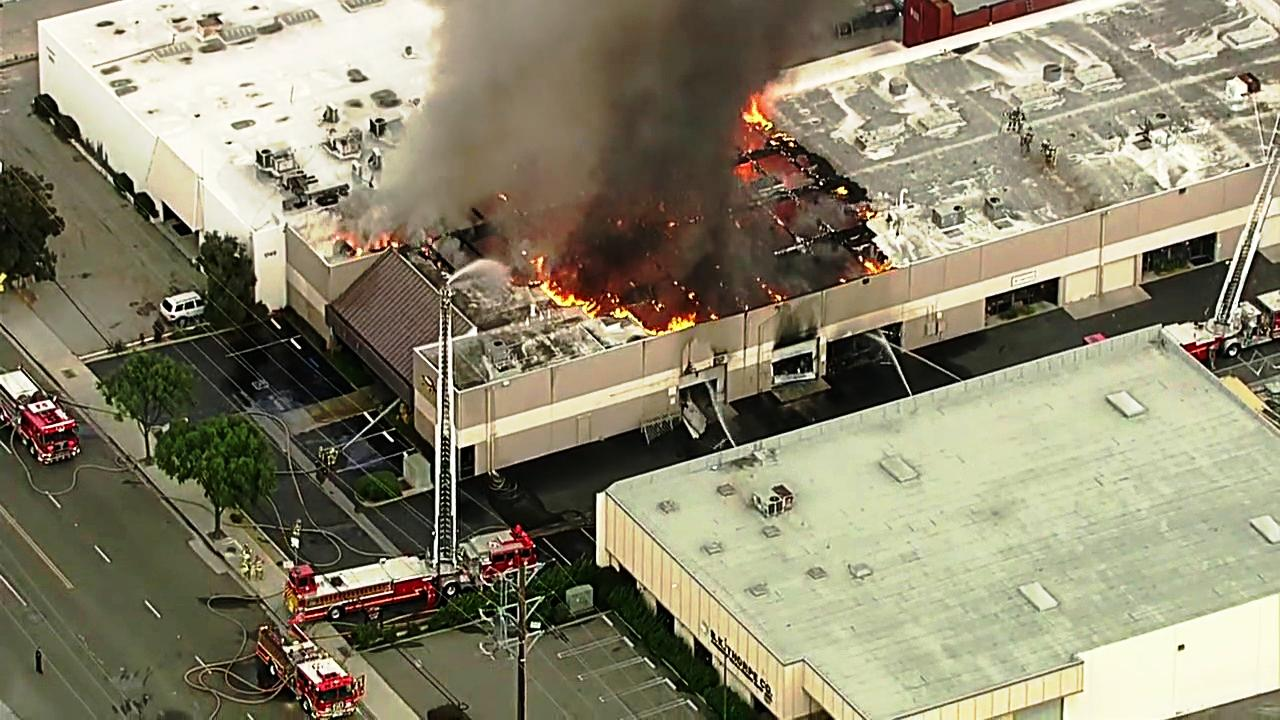smoke: (466, 0, 672, 187)
